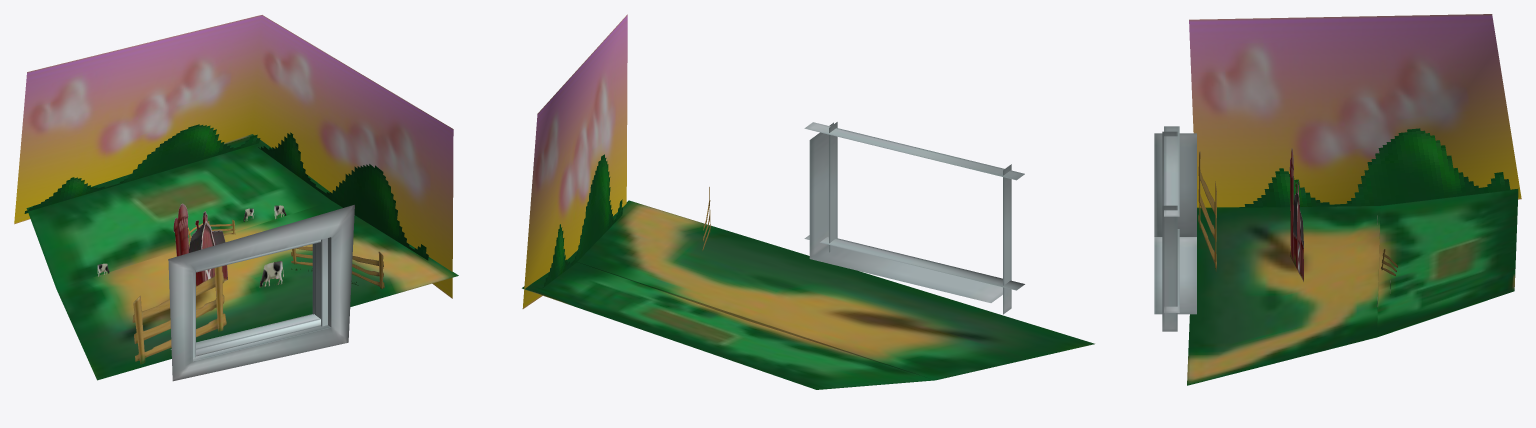
Rendered from FarmView.glb.
3 views of the same model, side by side, from view 1: azimuth 30°, elevation 25°; view 2: azimuth 150°, elevation 25°; view 3: azimuth 270°, elevation 25° (orthographic). The views are drawn at different scales.
Parts seen in each view (by area): view 1: polySurface9, polySurface21, WindowFrame, polySurface37, polySurface39, polySurface29, windowBar2, pPlane1, windowBar3, polySurface44, pPlane12; view 2: polySurface21, polySurface9, WindowFrame, polySurface37, windowBar, windowBar2, windowBar1, windowBar3; view 3: polySurface9, polySurface21, polySurface38, WindowFrame, windowBar3, windowBar, pPlane1, polySurface29, windowBar2.
Part boxes in pixels (x1,y1,x2,y2): polySurface9: (14, 15, 453, 298); polySurface21: (26, 134, 458, 380); WindowFrame: (168, 204, 354, 381); polySurface37: (258, 132, 428, 260); polySurface39: (24, 124, 260, 213); polySurface29: (132, 266, 226, 364); windowBar2: (170, 314, 320, 356); pPlane1: (173, 203, 227, 286); windowBar3: (315, 238, 327, 326); polySurface44: (351, 251, 384, 289); pPlane12: (259, 261, 283, 287); polySurface21: (522, 200, 1094, 389); polySurface9: (522, 14, 627, 308); WindowFrame: (809, 122, 1002, 302); polySurface37: (542, 154, 622, 287); windowBar: (804, 122, 1024, 180); windowBar2: (804, 235, 1024, 290); windowBar1: (1003, 164, 1011, 314); windowBar3: (829, 122, 837, 252); polySurface9: (1189, 14, 1521, 207); polySurface21: (1187, 188, 1518, 385); polySurface38: (1240, 128, 1510, 207); WindowFrame: (1154, 133, 1196, 314); windowBar3: (1162, 205, 1177, 331); windowBar: (1164, 126, 1179, 216); pPlane1: (1289, 148, 1303, 281); polySurface29: (1198, 151, 1216, 271); windowBar2: (1164, 229, 1179, 312).
Size of the model in its own units: 22.88 by 12.61 by 15.91.
Materials: 6 (6 with a texture image).
